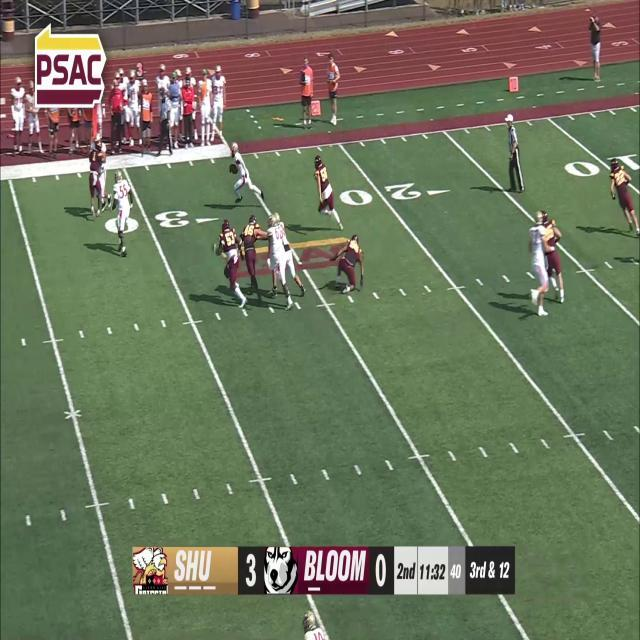football: (229, 162, 238, 176)
